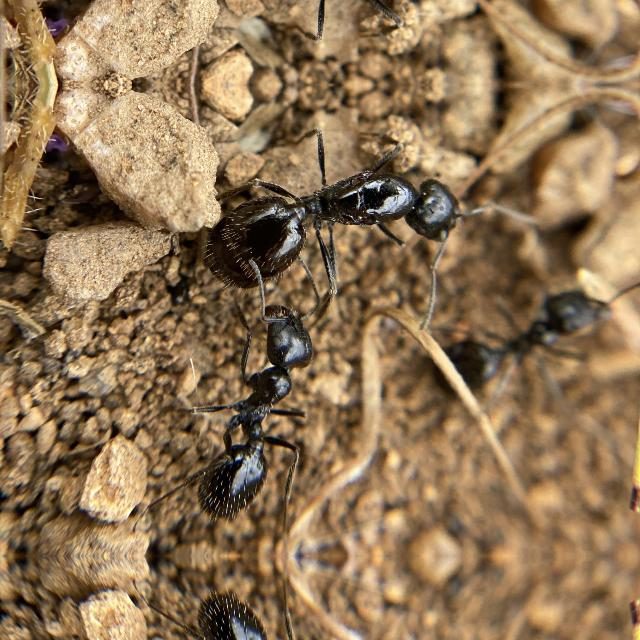Messor: (176, 147, 489, 299), (192, 302, 334, 508), (418, 256, 618, 396)
